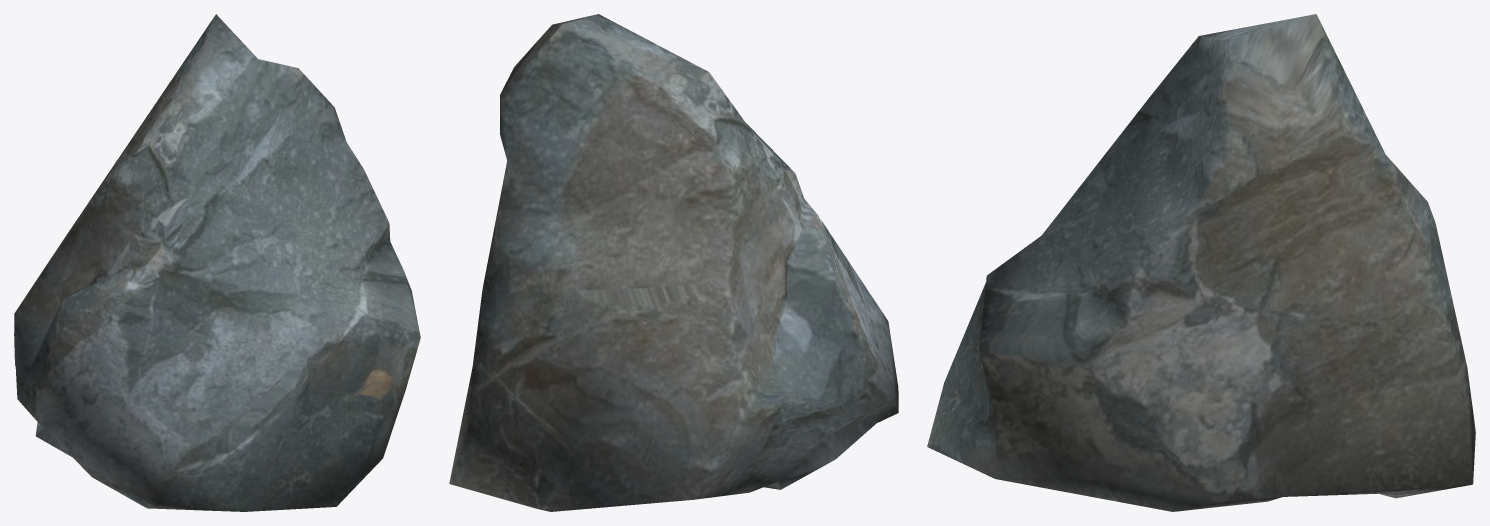
File: rock_scan01.fbx
The picture shows the model from 3 angles, left to right: view 1: azimuth 30°, elevation 25°; view 2: azimuth 150°, elevation 25°; view 3: azimuth 270°, elevation 25°; orthographic projection. The views are drawn at different scales.
Visible parts, largest first — view 1: Rock01_LOD3; view 2: Rock01_LOD3; view 3: Rock01_LOD3.
Boxes of the visible parts, x1,y1,x2,y2 form: Rock01_LOD3: (14,14,420,511); Rock01_LOD3: (449,14,898,511); Rock01_LOD3: (927,14,1475,511).
Size of the model in its own units: 91.33 by 102 by 103.
1 material, 1 textured.
